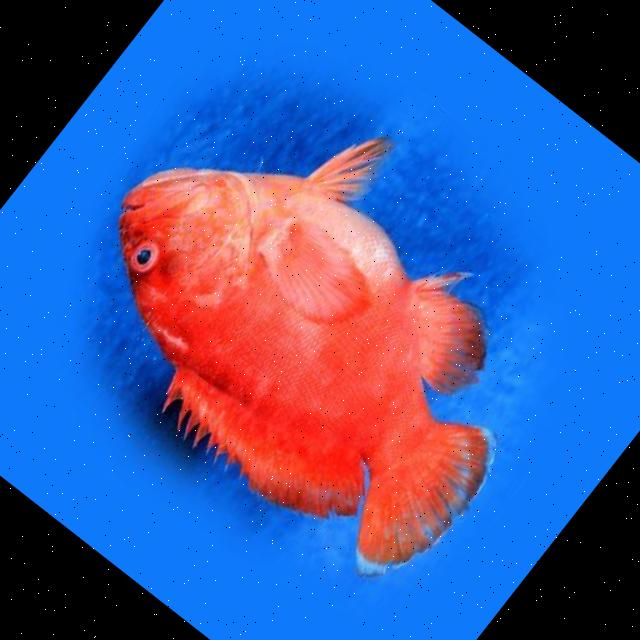ikan: (24, 31, 618, 610)
